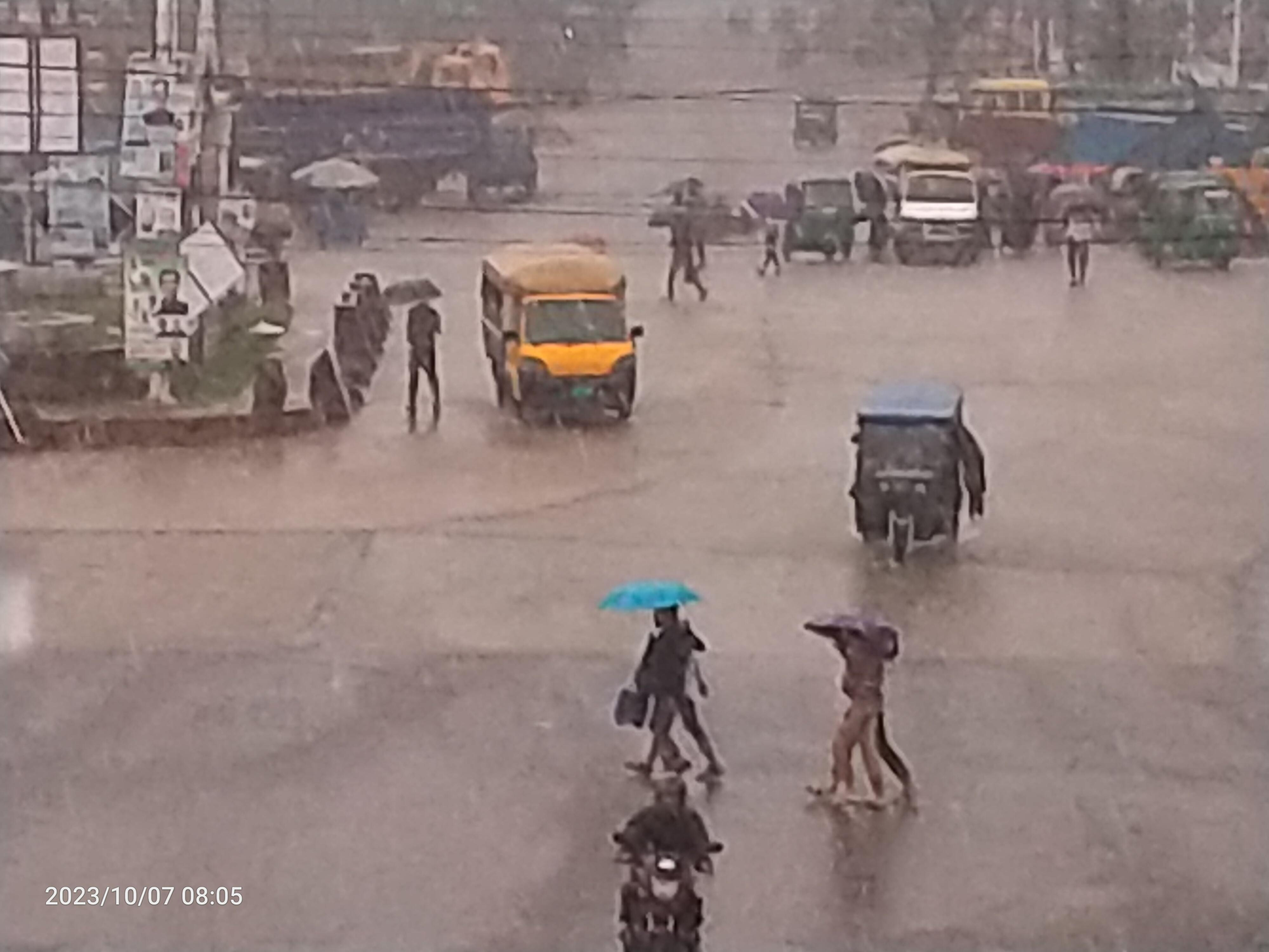Bike: (568, 752, 757, 952)
Car: (450, 232, 680, 471), (822, 376, 1012, 594), (891, 148, 991, 272)
Truck: (157, 15, 506, 195)
